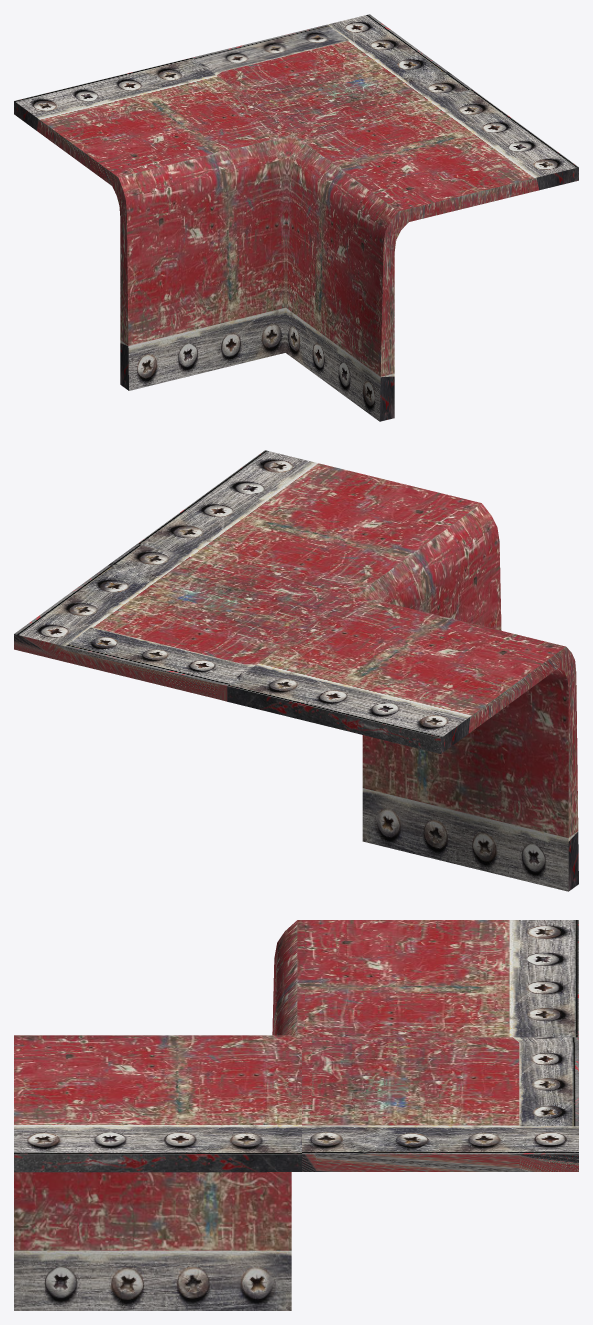
Rendered from MOD_WallProtectCorner_B.FBX.
3 renders of one model, top to bottom at view 1: azimuth 30°, elevation 25°; view 2: azimuth 150°, elevation 25°; view 3: azimuth 270°, elevation 25°, orthographic. The views are drawn at different scales.
Parts seen in each view (by area): view 1: MOD_WallProtectCorner_B; view 2: MOD_WallProtectCorner_B; view 3: MOD_WallProtectCorner_B.
Part boxes in pixels (x1,y1,x2,y2): MOD_WallProtectCorner_B: (14,14,578,421); MOD_WallProtectCorner_B: (14,450,578,891); MOD_WallProtectCorner_B: (14,920,578,1310).
Size of the model in its own units: 96.55 by 53.37 by 98.35.
Materials: 1 (1 with a texture image).
